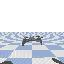drone: (22, 36, 43, 46)
